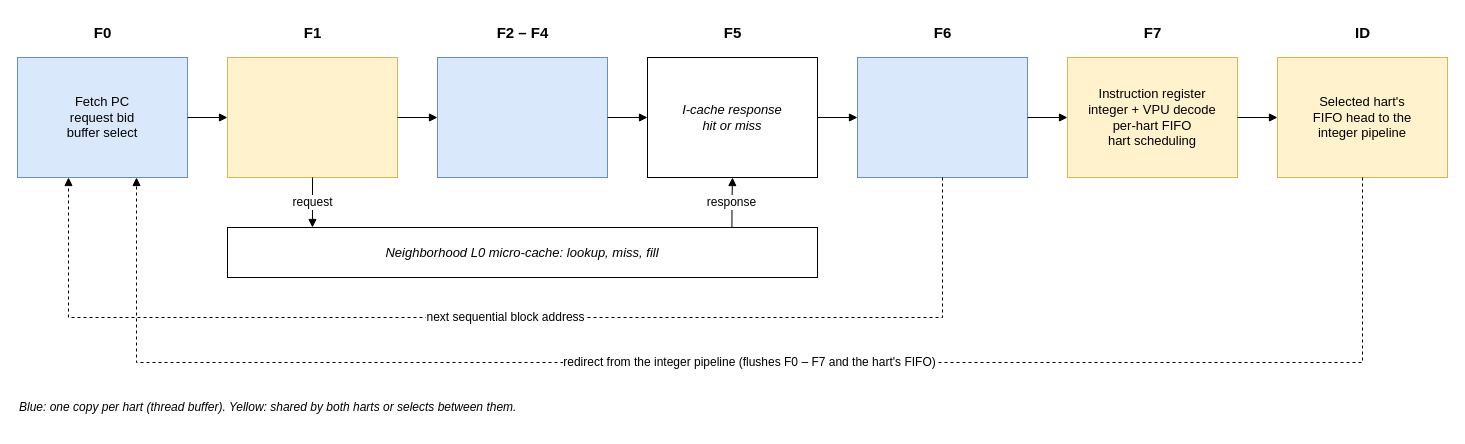
Some shapes in this 1465 by 444 pixel diagram are drawn without their labels. The centre of each missing label's shape, as x and y in pixels:
"Block written instruction extracted RVC expanded" belongs at (x=942, y=117).
"Request token shifts (fixed latency)" belongs at (x=522, y=117).
"Shared request register (I-cache accepts)" belongs at (x=312, y=117).
